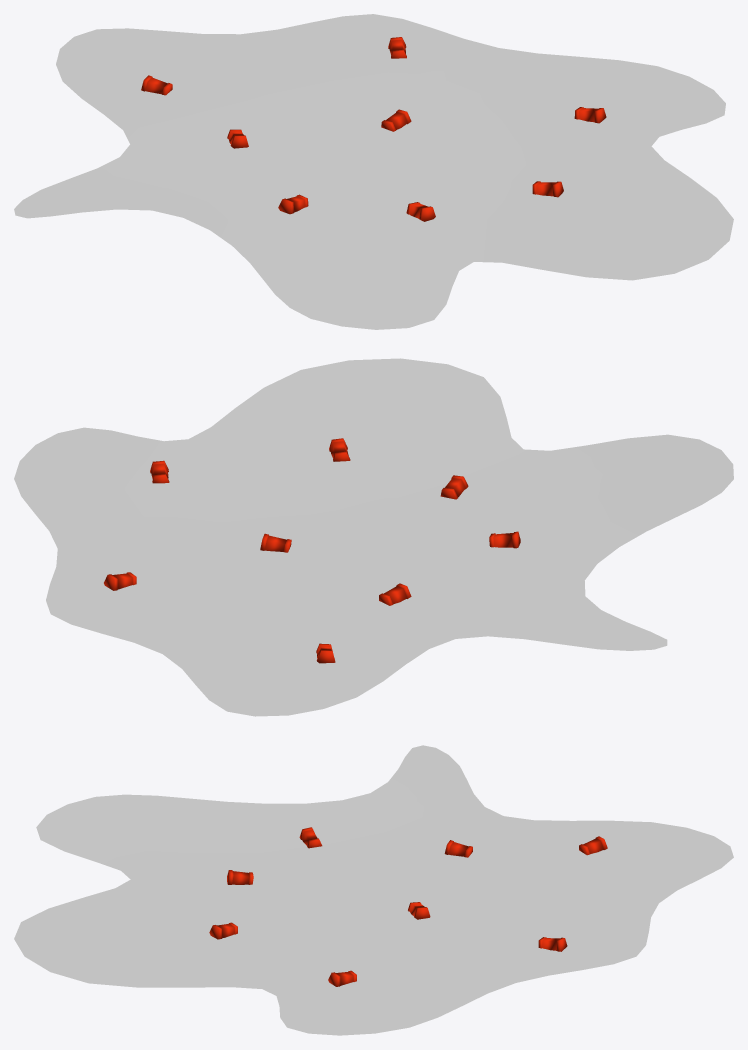
Rendered from Oil.fbx.
3 views of the same model, one above another, from view 1: azimuth 30°, elevation 25°; view 2: azimuth 150°, elevation 25°; view 3: azimuth 270°, elevation 25° (orthographic). The views are drawn at different scales.
Visible parts, largest first — view 1: Plane; view 2: Plane; view 3: Plane.
Part boxes in pixels (<box>): Plane: <box>14,14,733,329</box>; Plane: <box>14,358,733,716</box>; Plane: <box>14,745,733,1035</box>.
Size of the model in its own units: 401 by 11.4 by 421.
